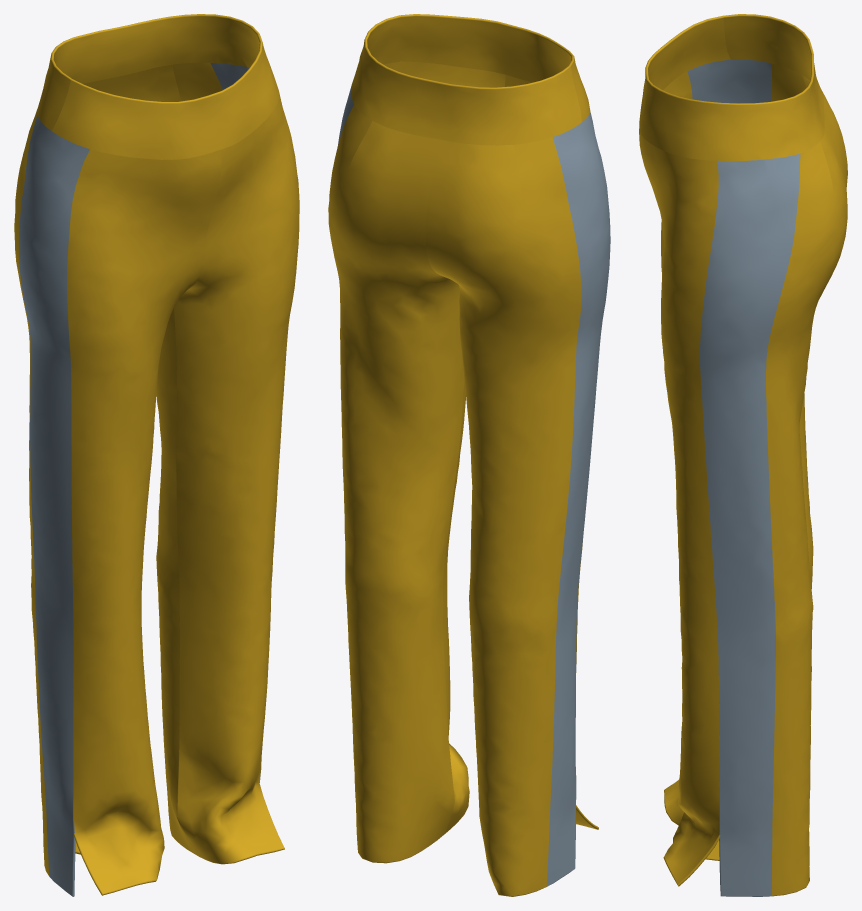
3 renders of one model, left to right at view 1: azimuth 30°, elevation 25°; view 2: azimuth 150°, elevation 25°; view 3: azimuth 270°, elevation 25°, orthographic. The views are drawn at different scales.
Parts seen in each view (by area): view 1: Pattern2D_4640240, Pattern2D_4476826, Pattern2D_4640238, Pattern2D_4220494, Pattern2D_4640241, Pattern2D_4555758, Pattern2D_4640242; view 2: Pattern2D_4640241, Pattern2D_4555758, Pattern2D_4220494, Pattern2D_4640238, Pattern2D_4640240; view 3: Pattern2D_4640242, Pattern2D_4640241, Pattern2D_4640240, Pattern2D_4220494, Pattern2D_4640238, Pattern2D_4555758, Pattern2D_4476826.
Boxes of the visible parts, x1=… form: Pattern2D_4640240: x1=174, y1=90, x2=299, y2=864; Pattern2D_4476826: x1=67, y1=149, x2=221, y2=895; Pattern2D_4640238: x1=19, y1=114, x2=89, y2=896; Pattern2D_4220494: x1=37, y1=14, x2=279, y2=159; Pattern2D_4640241: x1=98, y1=62, x2=222, y2=852; Pattern2D_4555758: x1=14, y1=80, x2=100, y2=875; Pattern2D_4640242: x1=210, y1=62, x2=261, y2=782; Pattern2D_4640241: x1=328, y1=105, x2=464, y2=863; Pattern2D_4555758: x1=425, y1=137, x2=581, y2=896; Pattern2D_4220494: x1=351, y1=14, x2=590, y2=145; Pattern2D_4640238: x1=546, y1=112, x2=610, y2=886; Pattern2D_4640240: x1=384, y1=61, x2=505, y2=833; Pattern2D_4640242: x1=700, y1=154, x2=800, y2=896; Pattern2D_4640241: x1=766, y1=109, x2=847, y2=896; Pattern2D_4640240: x1=639, y1=130, x2=720, y2=886; Pattern2D_4220494: x1=639, y1=14, x2=824, y2=161; Pattern2D_4640238: x1=687, y1=59, x2=771, y2=103; Pattern2D_4555758: x1=770, y1=63, x2=847, y2=588; Pattern2D_4476826: x1=639, y1=71, x2=692, y2=825.
Bounding box in the file's own units: 40.9 × 123 × 29.22.
